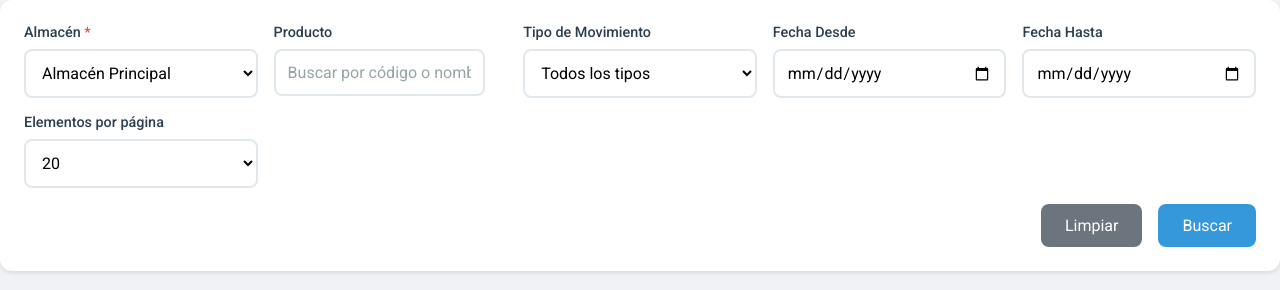
FiltersKardex › Validación de formulario › debe deshabilitar búsqueda cuando no se selecciona almacén
Select "Seleccionar almacén" in the dropdown with test id "kardex-filter-warehouse": (141, 74) left=24, top=49, right=258, bottom=98
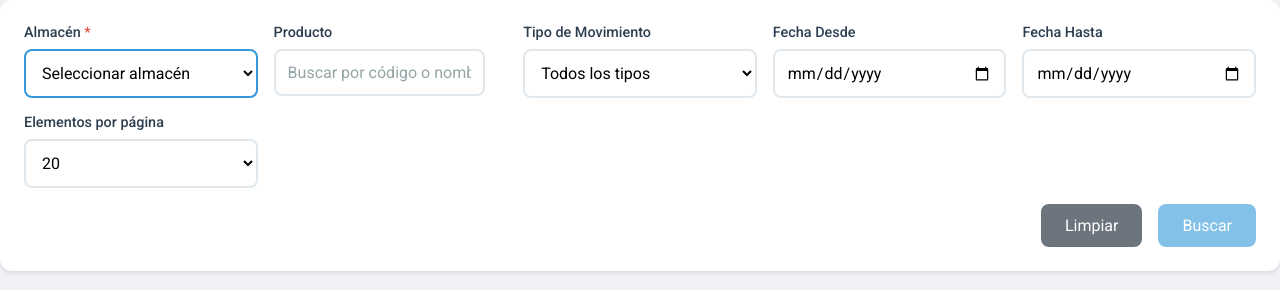
Expected: the button with test id "kardex-filter-search-button" is disabled, left=1158, top=204, right=1256, bottom=247
